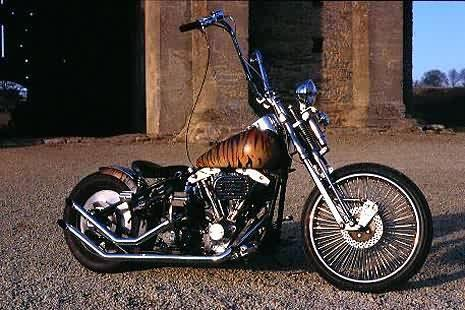motorcycle: (52, 3, 450, 298)
